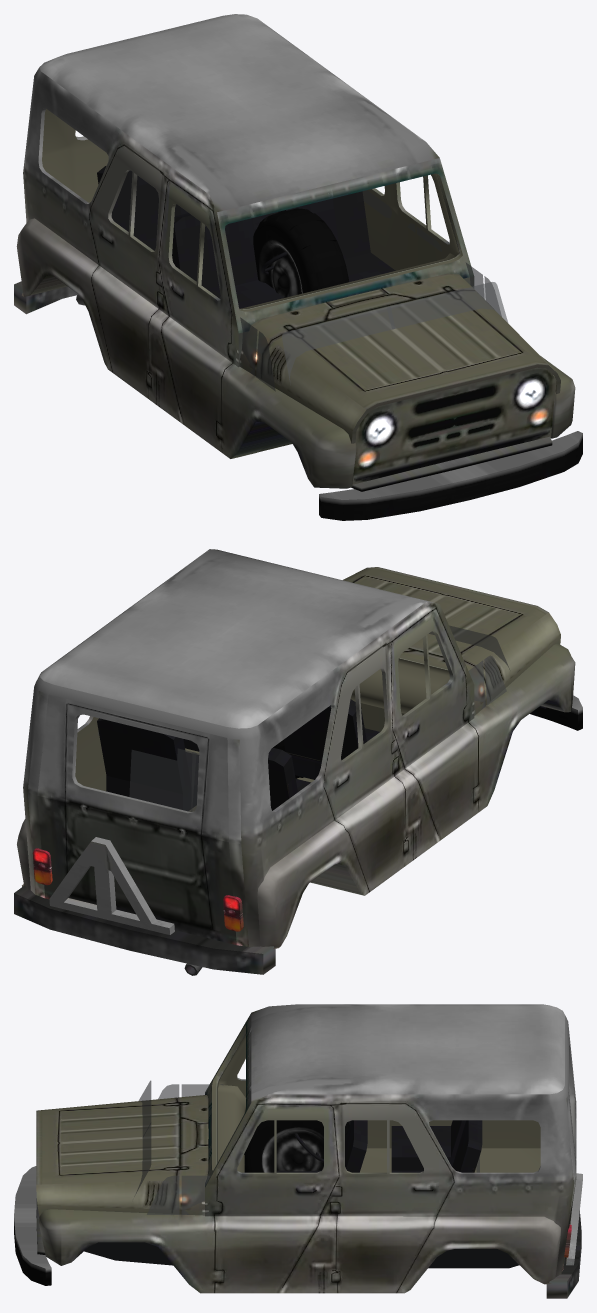
Rendered from uaz.glb.
The picture shows the model from 3 angles, top to bottom: view 1: azimuth 30°, elevation 25°; view 2: azimuth 150°, elevation 25°; view 3: azimuth 270°, elevation 25°; orthographic projection. The views are drawn at different scales.
Parts seen in each view (by area): view 1: Body, Glass, wheel.003, wheel.002, wheel; view 2: Body, Glass; view 3: Body, Glass, wheel.001, wheel.
Boxes of the visible parts, <box> form: Body: <box>14,14,582,520</box>; Glass: <box>240,190,507,391</box>; wheel.003: <box>254,209,348,296</box>; wheel.002: <box>253,208,347,297</box>; wheel: <box>263,213,348,286</box>; Body: <box>14,549,582,975</box>; Glass: <box>98,625,509,811</box>; Body: <box>14,1004,582,1298</box>; Glass: <box>134,1080,479,1214</box>; wheel.001: <box>249,1120,348,1172</box>; wheel: <box>244,1120,347,1172</box>.
Size of the model in its own units: 5985398 by 5778185 by 1.35e+07.
Materials: 2 (1 with a texture image).
